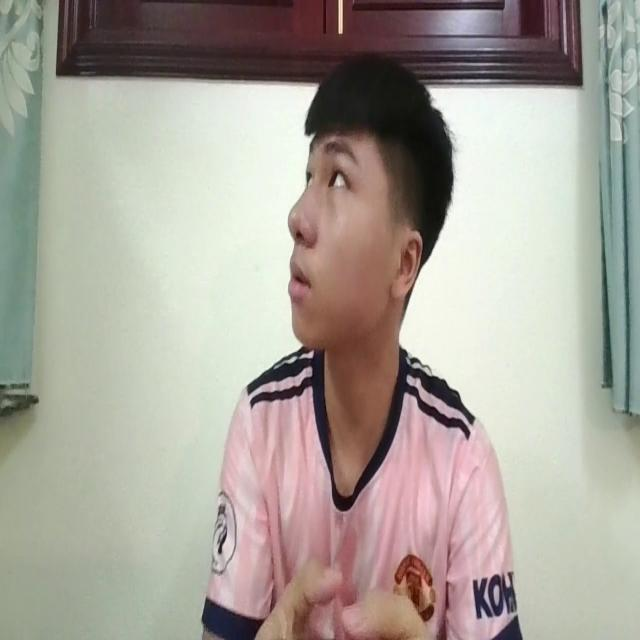student: (199, 50, 516, 640)
